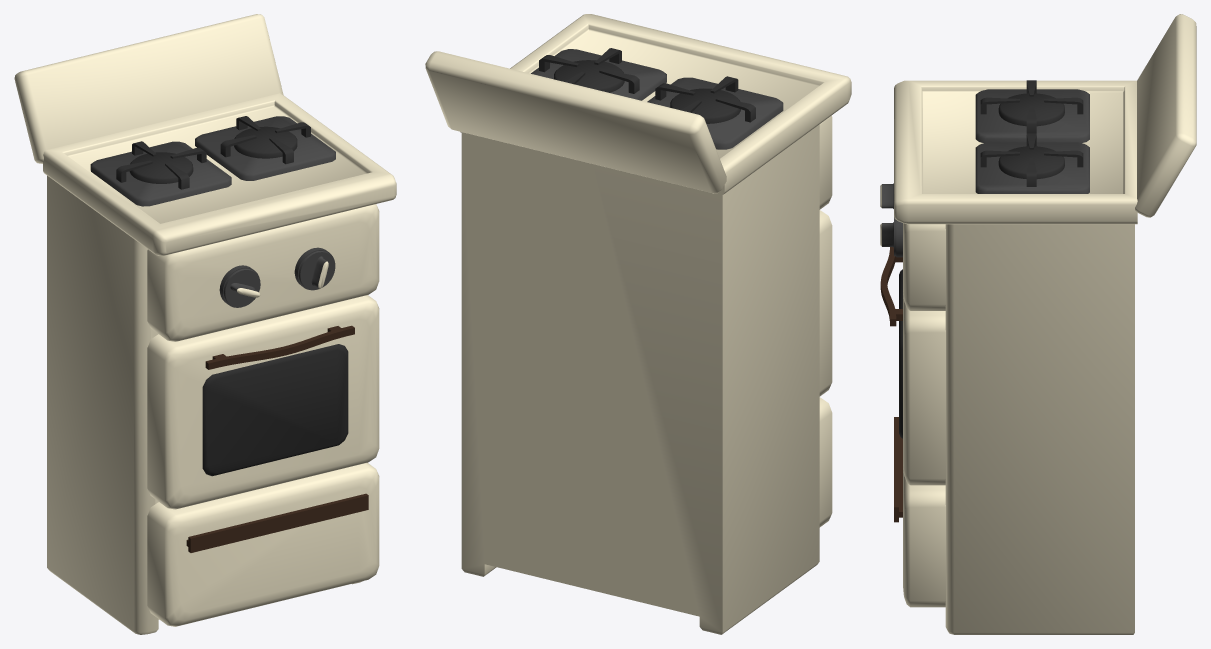
Rendered from Gas Stove.fbx.
The picture shows the model from 3 angles, left to right: view 1: azimuth 30°, elevation 25°; view 2: azimuth 150°, elevation 25°; view 3: azimuth 270°, elevation 25°; orthographic projection. The views are drawn at different scales.
Visible parts, largest first — view 1: Cube.014; view 2: Cube.014; view 3: Cube.014.
Boxes of the visible parts, x1=… form: Cube.014: x1=14, y1=14, x2=396, y2=634; Cube.014: x1=425, y1=14, x2=851, y2=634; Cube.014: x1=880, y1=14, x2=1196, y2=634.
Bounding box in the file's own units: 165 × 310 × 177.
